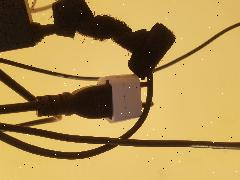electronic: (52, 6, 166, 130)
